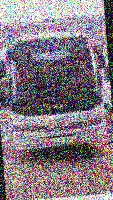bus: (0, 28, 111, 153)
